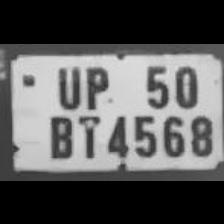0: (168, 61, 200, 106)
4: (103, 109, 130, 159)
5: (128, 107, 158, 157), (140, 61, 170, 106)
6: (159, 109, 186, 157)
8: (186, 109, 214, 157)
B: (44, 110, 74, 158)
P: (79, 60, 112, 108)
T: (74, 111, 102, 156)
U: (50, 60, 82, 106)
